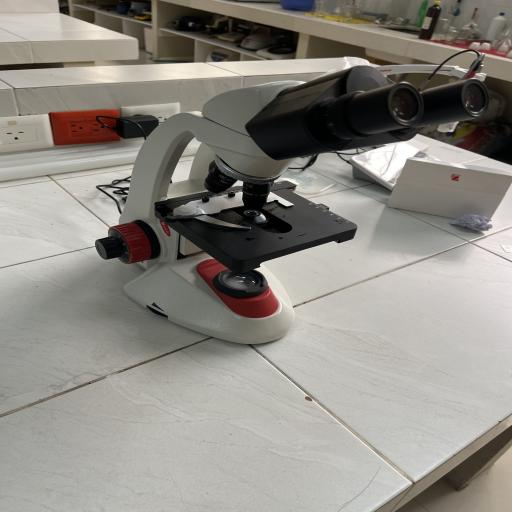Microscopio_Binocular: (79, 57, 512, 355)
